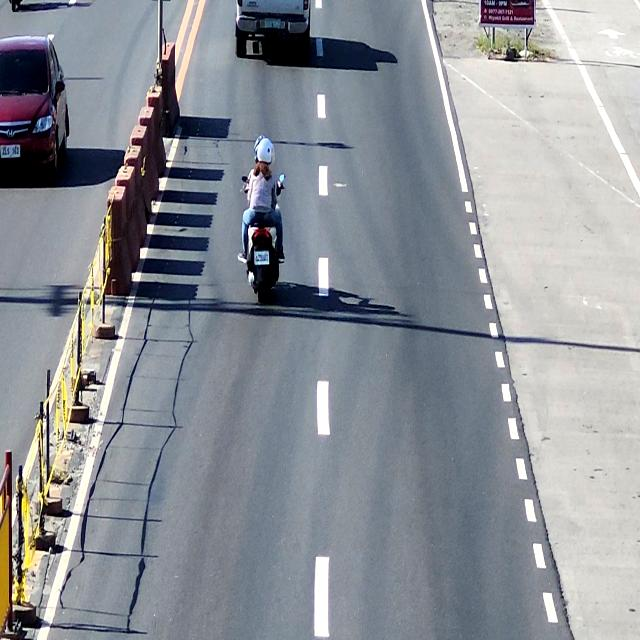Car: (0, 29, 73, 189), (235, 0, 314, 62)
License-Plate: (0, 143, 25, 158), (254, 248, 272, 268), (262, 16, 284, 32)
Motorcycle: (237, 166, 291, 312)
